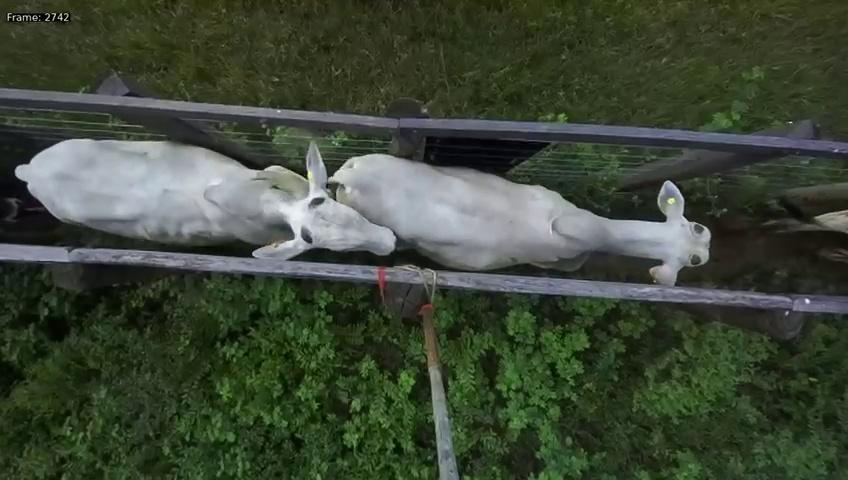cattle: (326, 146, 714, 296), (9, 128, 403, 266)
